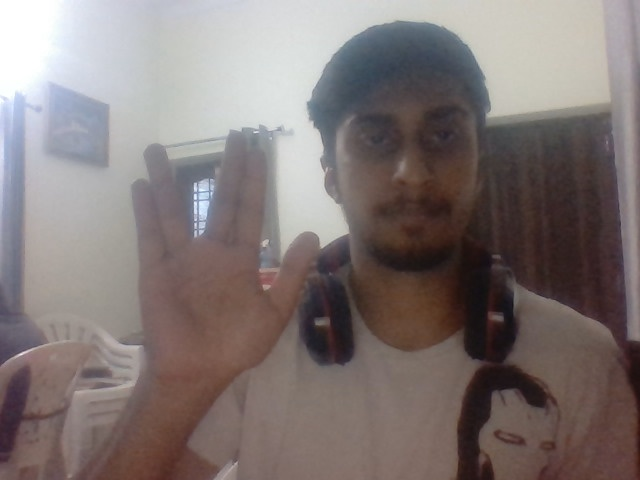LiveLong: (131, 135, 321, 378)
